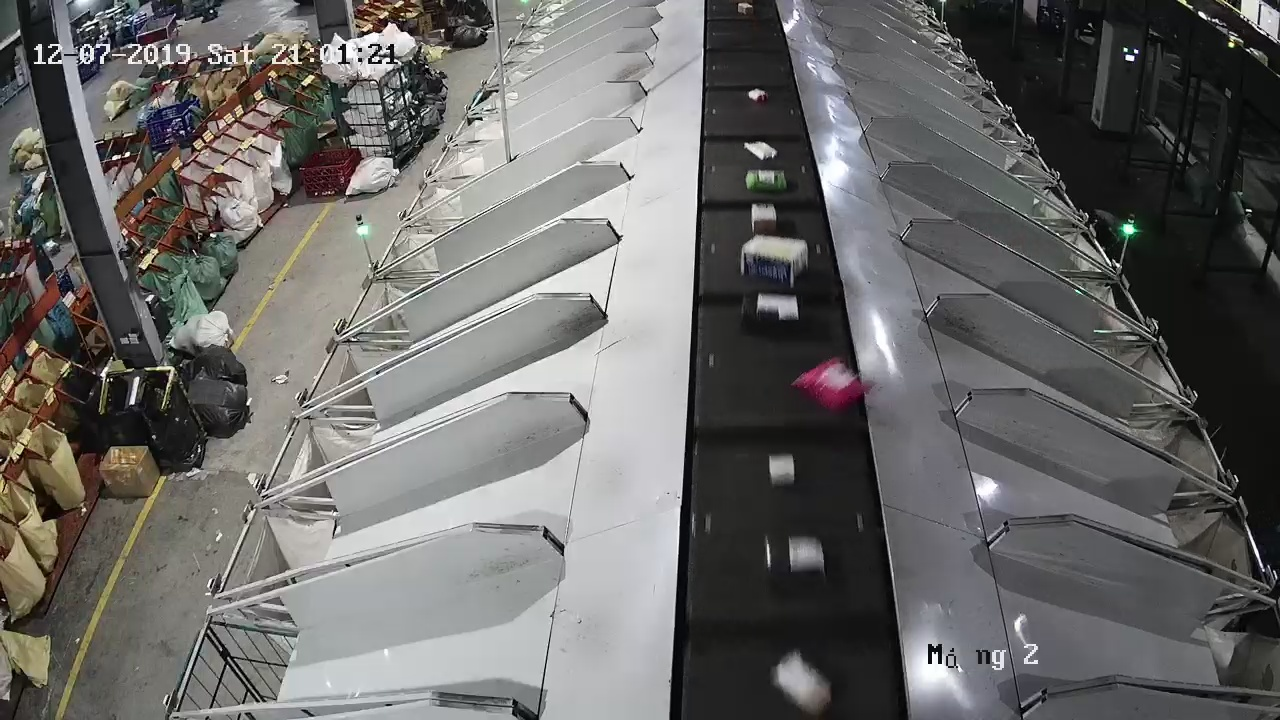parcel: (788, 356, 872, 414)
